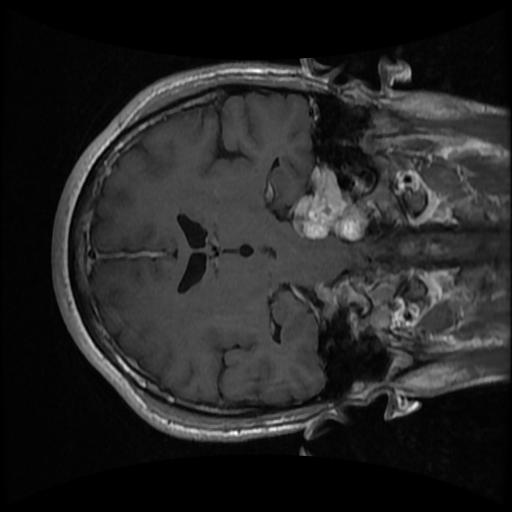meningioma: (291, 165, 371, 244)
